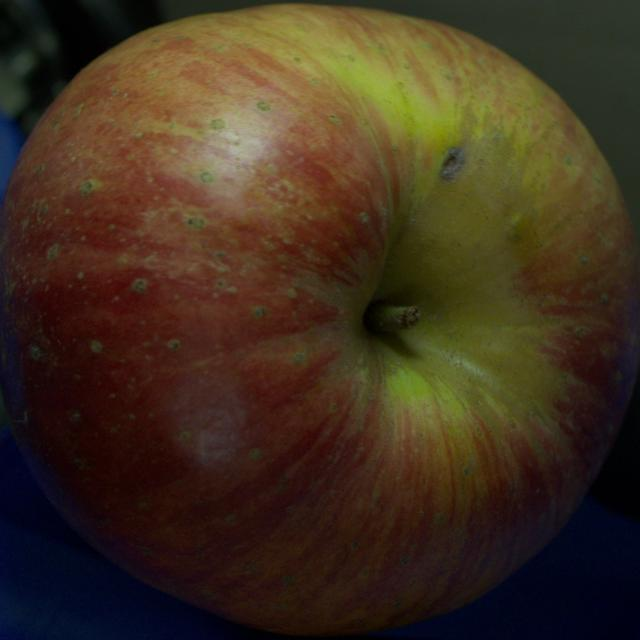apple: (0, 4, 639, 635)
pest: (440, 147, 464, 179)
